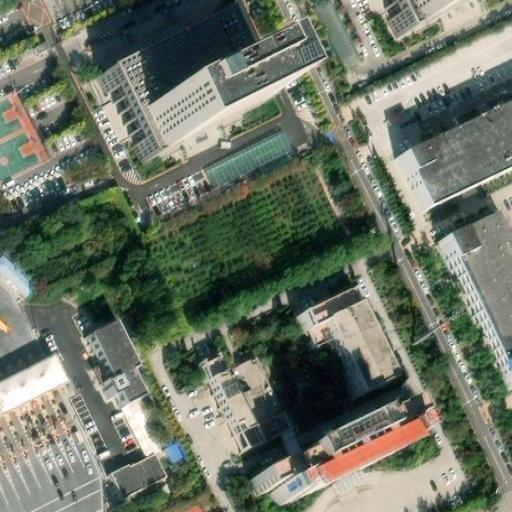building: (242, 407, 417, 504), (119, 55, 259, 163), (97, 14, 235, 116), (394, 102, 512, 212), (442, 209, 512, 386), (306, 285, 403, 391), (210, 339, 289, 444), (201, 128, 290, 189), (95, 320, 149, 401), (113, 456, 165, 497), (163, 442, 184, 463)
